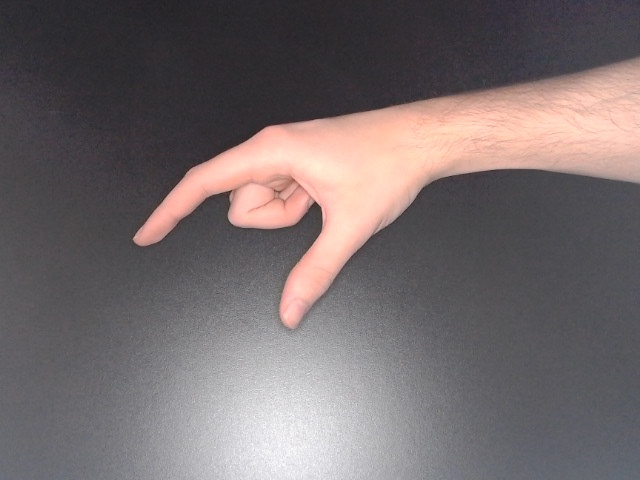q: (128, 87, 512, 337)
